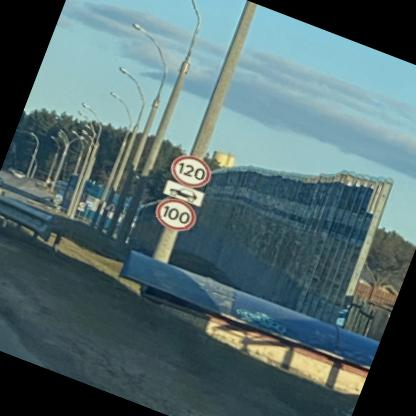speedlimit: (166, 150, 214, 192), (149, 192, 197, 234)
